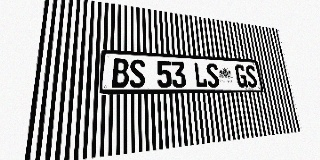3: (171, 61, 186, 88)
5: (157, 60, 172, 88)
B: (112, 58, 129, 88)
G: (234, 64, 248, 87)
L: (193, 62, 208, 88)
S: (129, 59, 146, 88), (206, 63, 220, 88), (245, 65, 258, 87)
